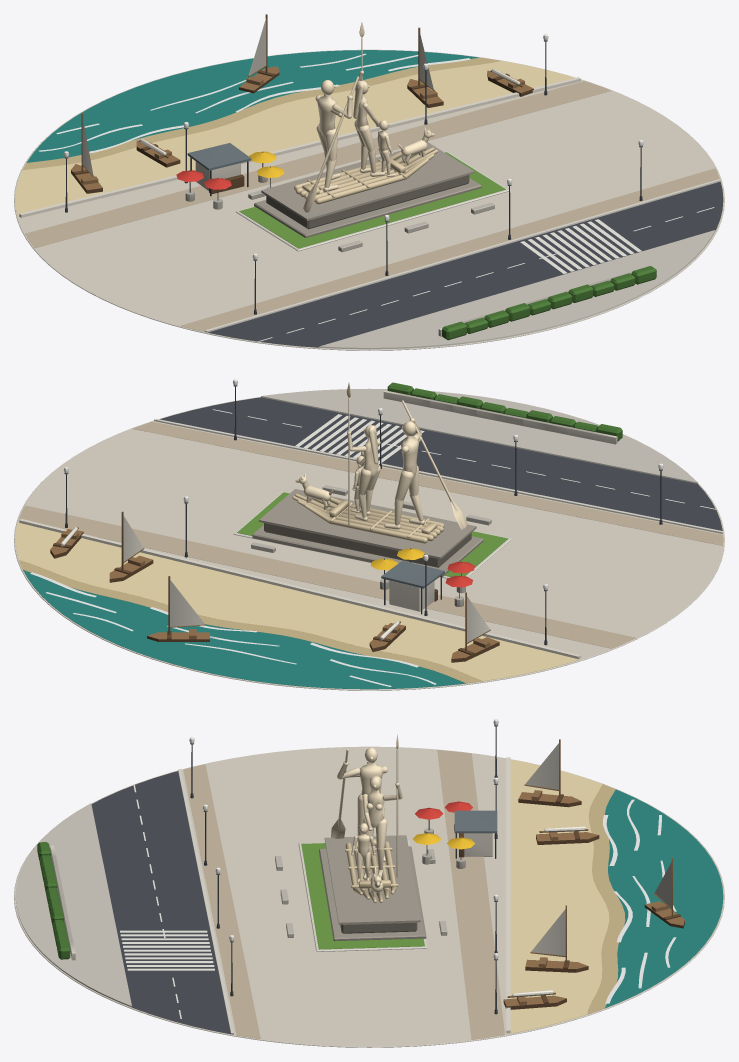
The model's file is iracemaMartim-pecas.glb.
3 views of the same model, one above another, from view 1: azimuth 30°, elevation 25°; view 2: azimuth 150°, elevation 25°; view 3: azimuth 270°, elevation 25° (orthographic).
Visible parts, largest first — view 1: Chao_Pisos, Chao_Base, Orla_Calcadao, Pedestal_Escultura, Escultura_Figuras, Escultura_Jangada; view 2: Chao_Pisos, Chao_Base, Orla_Calcadao, Pedestal_Escultura, Escultura_Figuras, Escultura_Jangada; view 3: Chao_Pisos, Chao_Base, Orla_Calcadao, Pedestal_Escultura, Escultura_Figuras, Escultura_Jangada.
Boxes of the visible parts, x1,y1,x2,y2 form: Chao_Pisos: (15, 50, 723, 349); Chao_Base: (14, 49, 724, 350); Orla_Calcadao: (38, 14, 656, 340); Pedestal_Escultura: (254, 142, 481, 237); Escultura_Figuras: (303, 22, 434, 212); Escultura_Jangada: (294, 147, 438, 204); Chao_Pisos: (15, 388, 723, 689); Chao_Base: (14, 397, 724, 690); Orla_Calcadao: (30, 379, 663, 686); Pedestal_Escultura: (252, 489, 483, 577); Escultura_Figuras: (295, 382, 467, 529); Escultura_Jangada: (292, 493, 444, 543); Chao_Pisos: (15, 750, 723, 1039); Chao_Base: (14, 746, 724, 1047); Orla_Calcadao: (37, 719, 684, 1014); Pedestal_Escultura: (319, 835, 426, 941); Escultura_Figuras: (331, 734, 402, 901); Escultura_Jangada: (345, 839, 398, 902).
Bounding box in the file's own units: 66.8 × 17.37 × 66.8.
